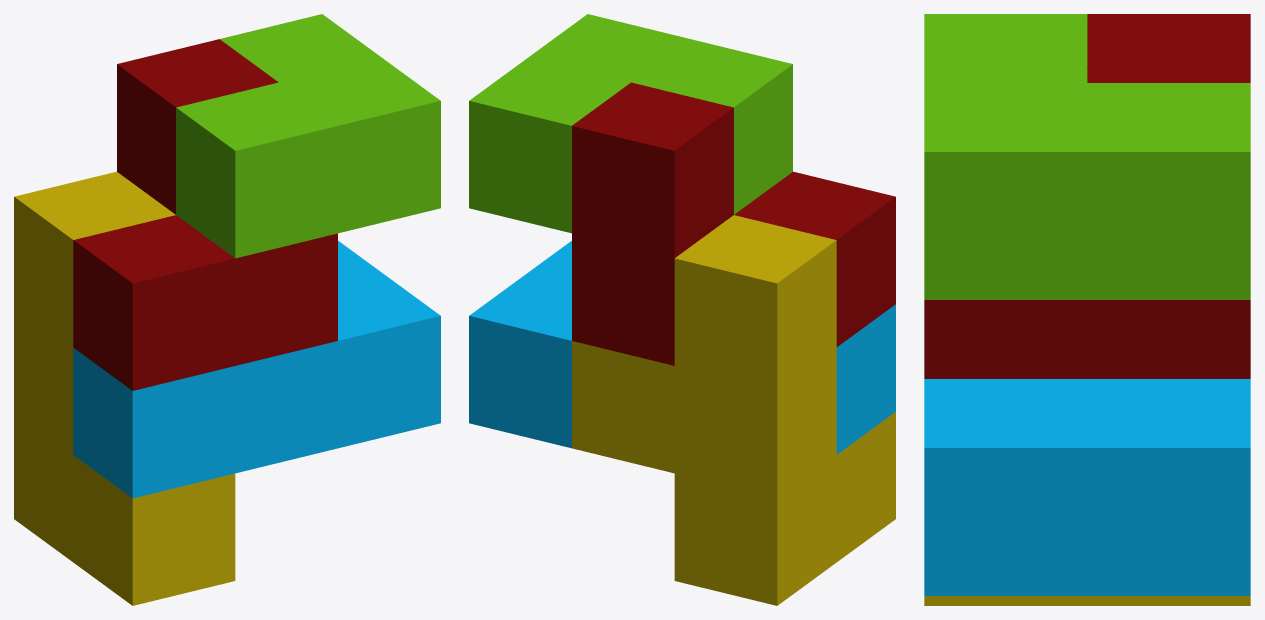
The picture shows the model from 3 angles, left to right: view 1: azimuth 30°, elevation 25°; view 2: azimuth 150°, elevation 25°; view 3: azimuth 270°, elevation 25°; orthographic projection. The views are drawn at different scales.
Parts seen in each view (by area): view 1: mergedBlocks(Clone); view 2: mergedBlocks(Clone); view 3: mergedBlocks(Clone).
Part boxes in pixels (x1,y1,x2,y2): mergedBlocks(Clone): [14, 14, 440, 605]; mergedBlocks(Clone): [469, 14, 895, 605]; mergedBlocks(Clone): [924, 14, 1250, 605].
Bounding box in the file's own units: 3 × 4 × 2.
Materials: 4 (4 with a texture image).
